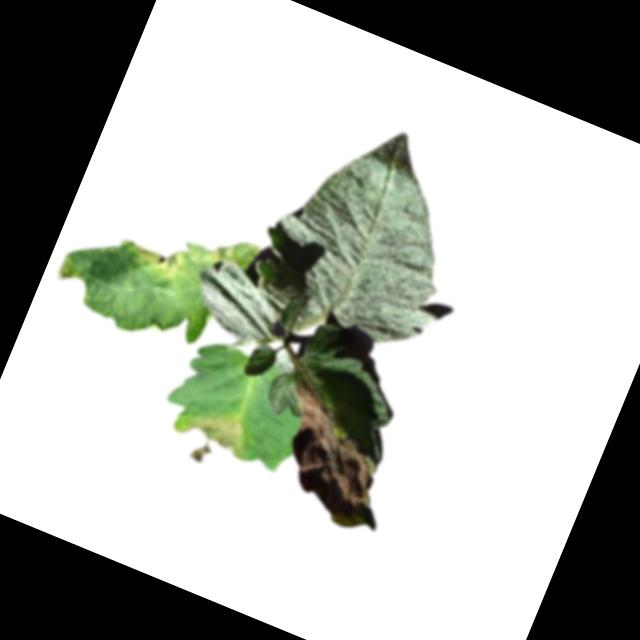Late_blight: (251, 376, 419, 539), (170, 392, 255, 475), (184, 221, 260, 279), (122, 232, 188, 283), (53, 260, 76, 285)
healthy: (182, 79, 498, 405)
